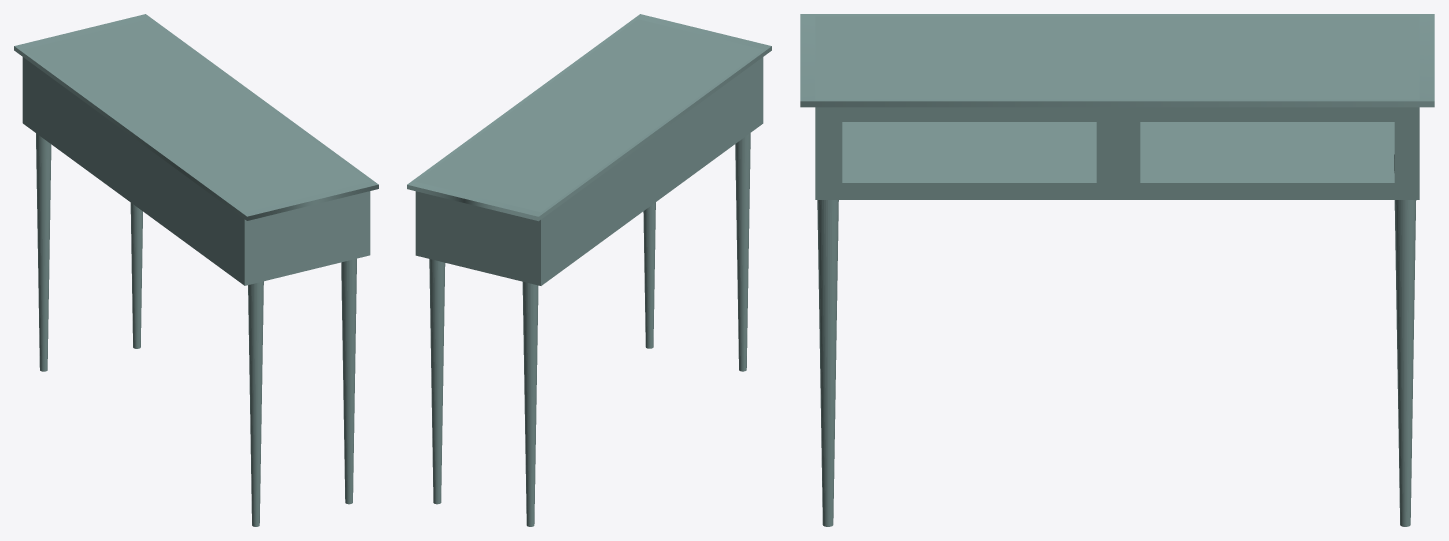
The model's file is HallTable.fbx.
3 renders of one model, left to right at view 1: azimuth 30°, elevation 25°; view 2: azimuth 150°, elevation 25°; view 3: azimuth 270°, elevation 25°, orthographic. The views are drawn at different scales.
Parts seen in each view (by area): view 1: Cube.008; view 2: Cube.008; view 3: Cube.008.
Part boxes in pixels (<box>): Cube.008: <box>14,14,378,526</box>; Cube.008: <box>407,14,771,526</box>; Cube.008: <box>800,14,1434,526</box>.
Bounding box in the file's own units: 39.36 × 91.65 × 121.
